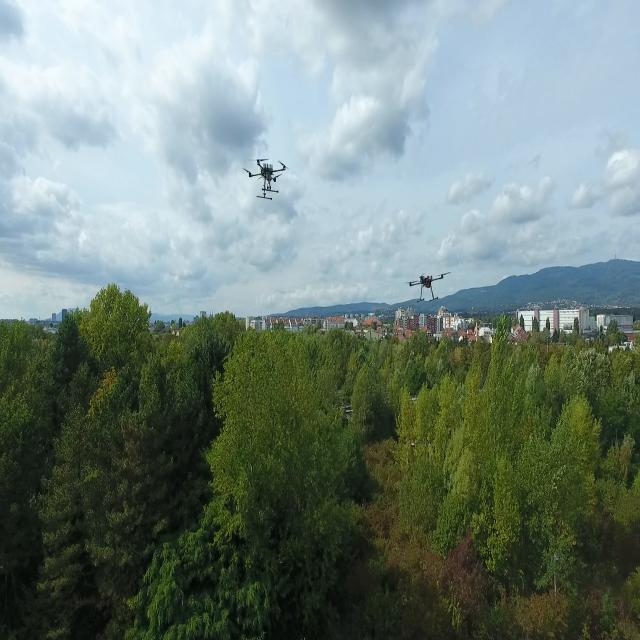UAV: (242, 141, 293, 209), (399, 268, 452, 300)
